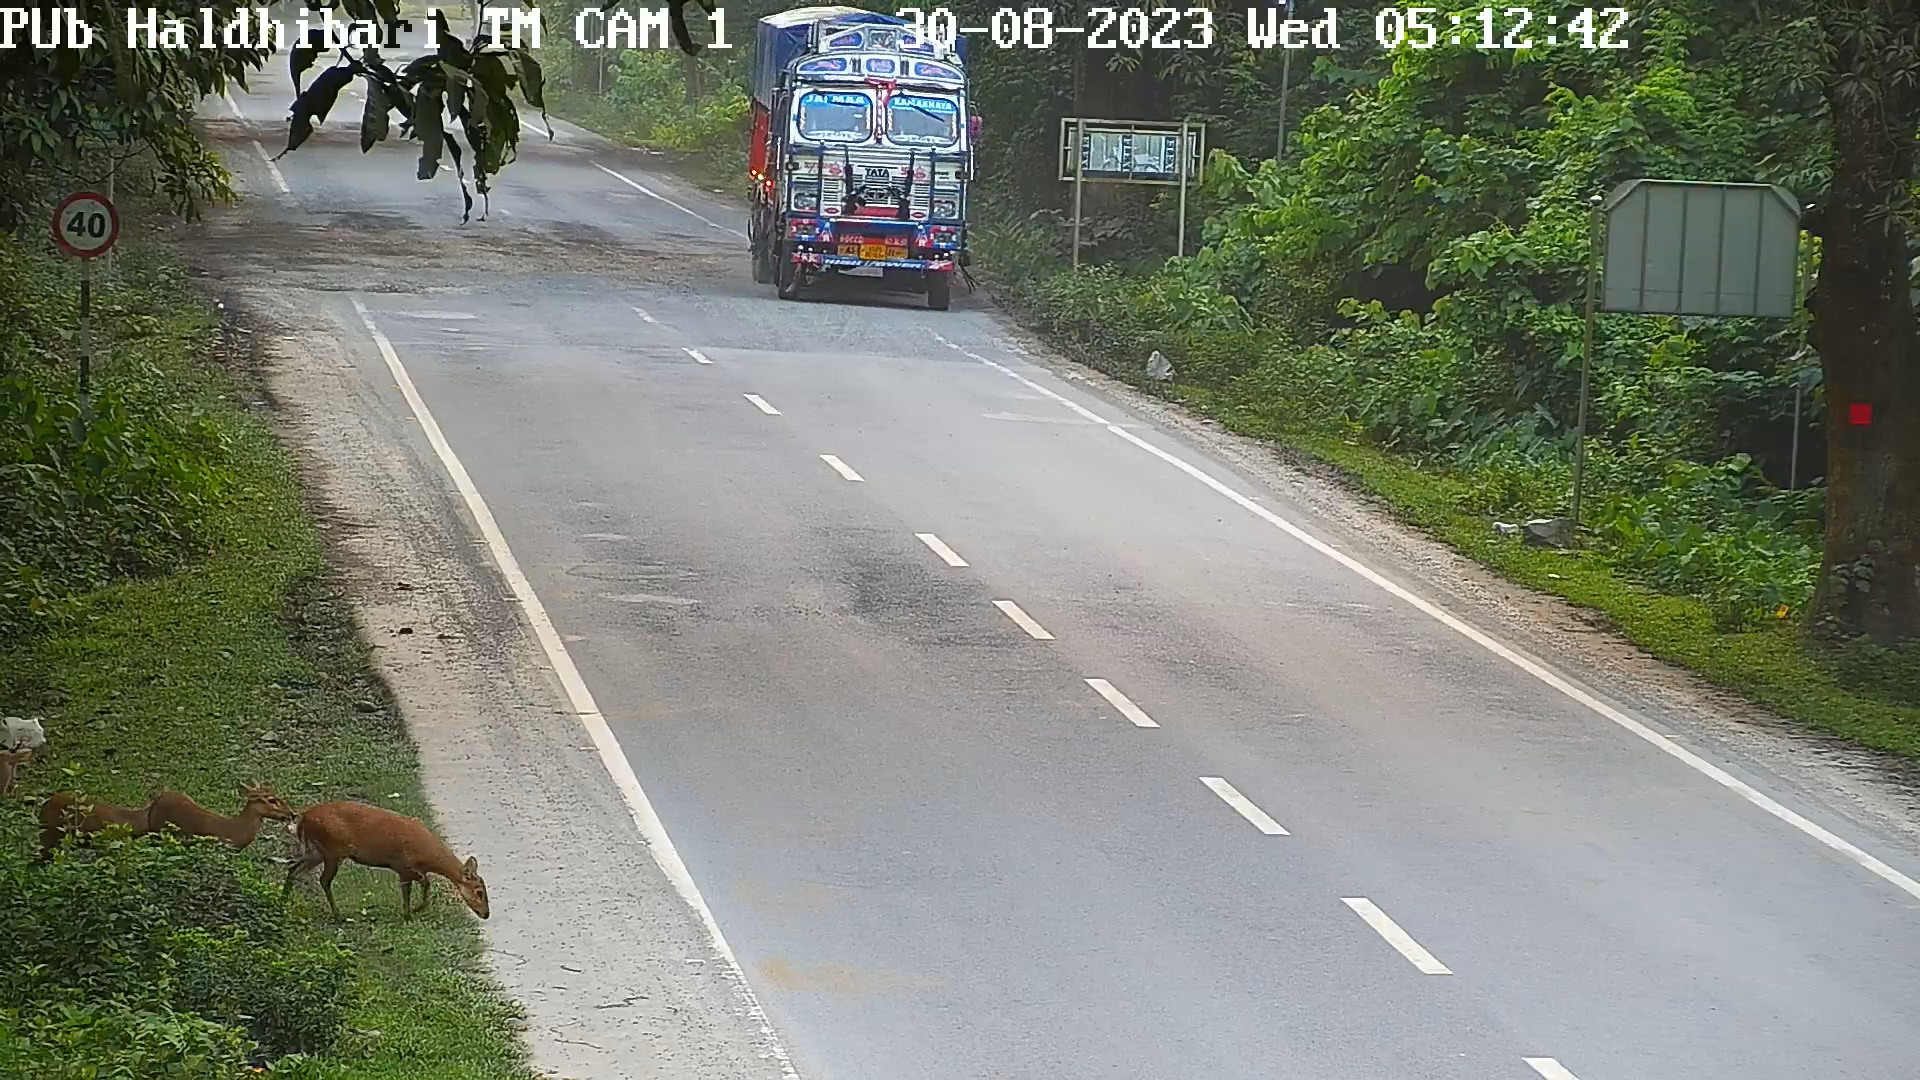deers: (307, 618, 508, 947), (120, 632, 285, 923), (24, 721, 161, 893), (318, 592, 327, 930), (311, 688, 342, 690)
